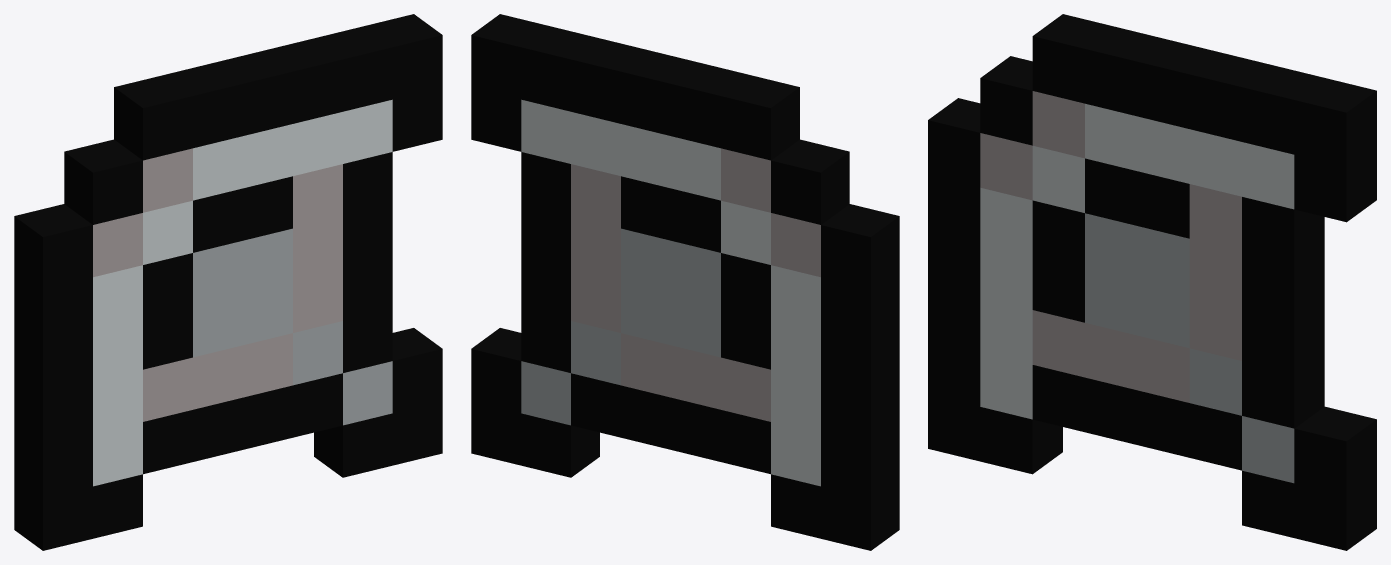
File: Iron Crossbowmetacharging3.glb
3 renders of one model, left to right at view 1: azimuth 30°, elevation 25°; view 2: azimuth 150°, elevation 25°; view 3: azimuth 330°, elevation 25°, orthographic. The views are drawn at different scales.
Visible parts, largest first — view 1: generated(Clone); view 2: generated(Clone); view 3: generated(Clone).
Part boxes in pixels (x1=…): generated(Clone): x1=14, y1=14, x2=442, y2=550; generated(Clone): x1=471, y1=14, x2=899, y2=550; generated(Clone): x1=928, y1=14, x2=1376, y2=550.
Bounding box in the file's own units: 8 × 8 × 1.
Materials: 1 (1 with a texture image).
